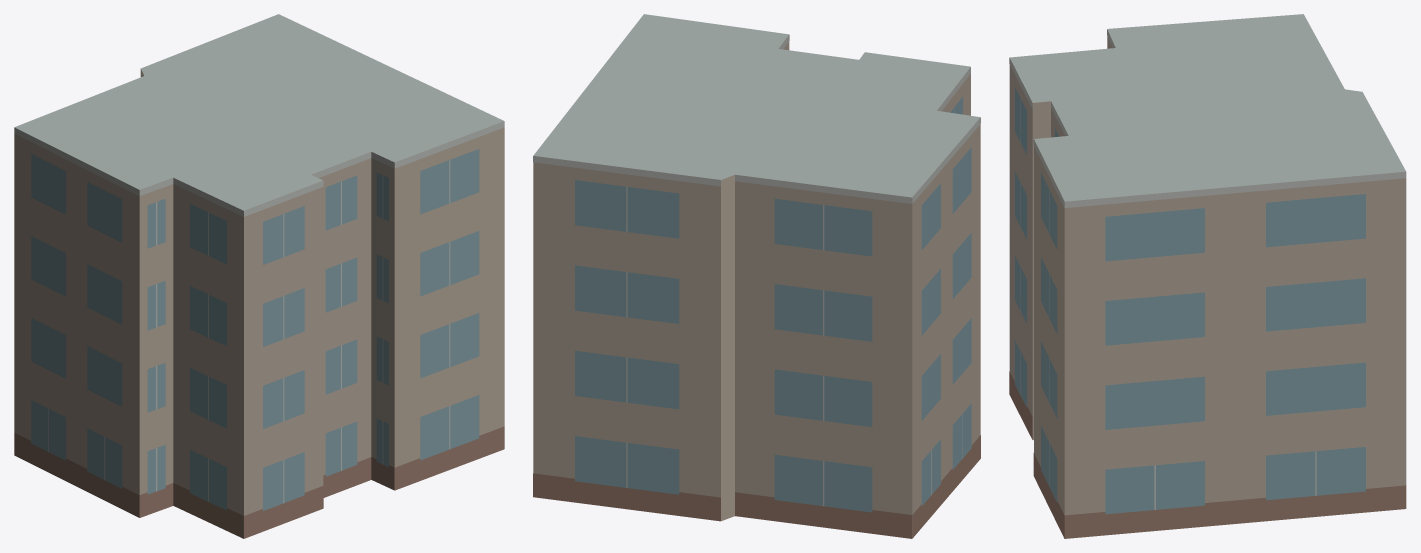
The model's file is survey-upis-32778849.glb.
3 views of the same model, side by side, from view 1: azimuth 30°, elevation 25°; view 2: azimuth 150°, elevation 25°; view 3: azimuth 270°, elevation 25° (orthographic). The views are drawn at different scales.
Parts seen in each view (by area): view 1: survey-upis-32778849.tmp; view 2: survey-upis-32778849.tmp; view 3: survey-upis-32778849.tmp.
Boxes of the visible parts, x1,y1,x2,y2 form: survey-upis-32778849.tmp: (14, 14, 504, 538); survey-upis-32778849.tmp: (533, 14, 980, 538); survey-upis-32778849.tmp: (1009, 14, 1406, 538).
Bounding box in the file's own units: 15.29 × 12.8 × 13.66.
